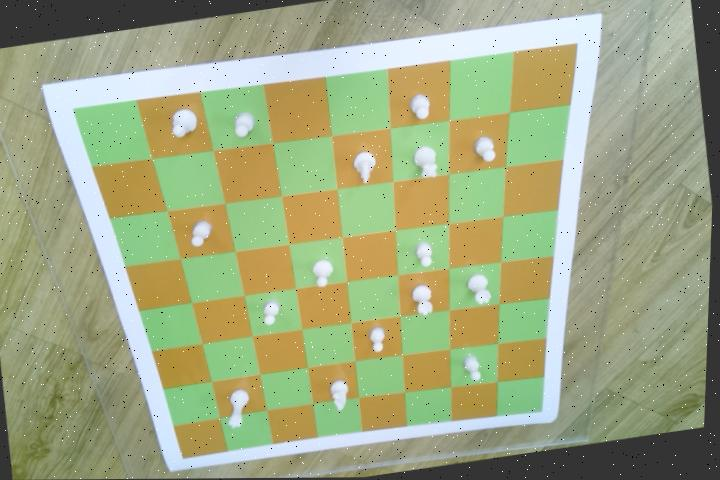chessboard-detect: (72, 45, 578, 460)
